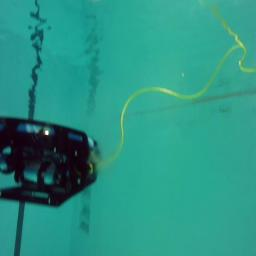Side: (0, 117, 100, 208)
